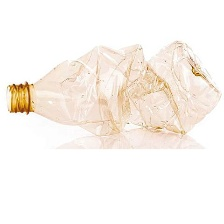bottle: (3, 33, 224, 139)
